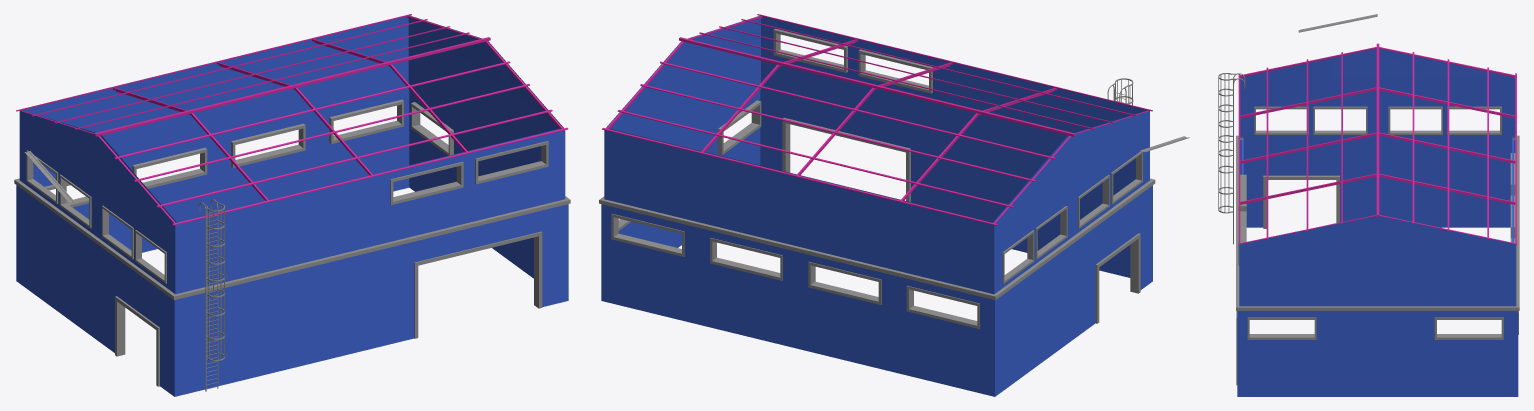
Rendered from Factory.FBX.
3 views of the same model, side by side, from view 1: azimuth 30°, elevation 25°; view 2: azimuth 150°, elevation 25°; view 3: azimuth 270°, elevation 25° (orthographic). The views are drawn at different scales.
Parts seen in each view (by area): view 1: Factory_Base, Ladder; view 2: Factory_Base; view 3: Factory_Base, Ladder.
Part boxes in pixels (left/top/right/bottom): Factory_Base: left=14, top=14, right=570, bottom=396; Ladder: left=199, top=199, right=225, bottom=391; Factory_Base: left=599, top=14, right=1155, bottom=396; Factory_Base: left=1236, top=43, right=1519, bottom=396; Ladder: left=1218, top=73, right=1245, bottom=244.
Bounding box in the file's own units: 2334 × 1471 × 982.
